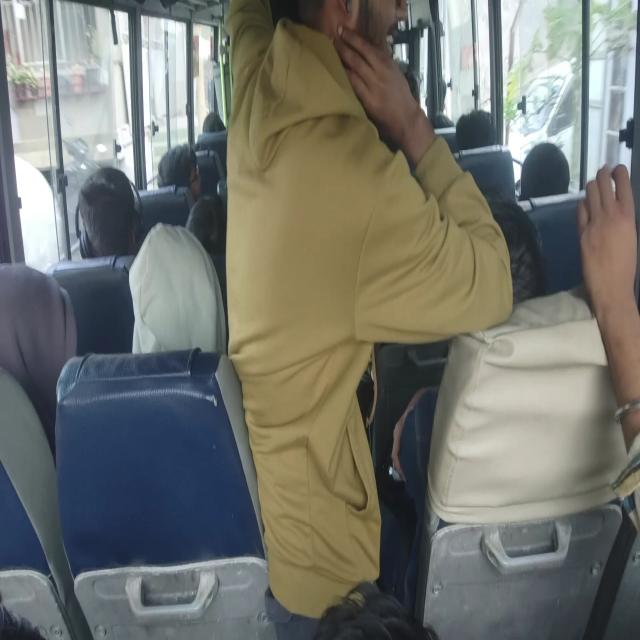person: (244, 0, 401, 285), (137, 231, 225, 362), (464, 193, 553, 320), (290, 575, 427, 640), (0, 277, 81, 367), (514, 139, 573, 224), (84, 182, 146, 249), (190, 185, 241, 266), (458, 101, 519, 160), (200, 106, 258, 166), (162, 139, 204, 203), (389, 46, 425, 108), (429, 106, 463, 150), (428, 78, 465, 118)
